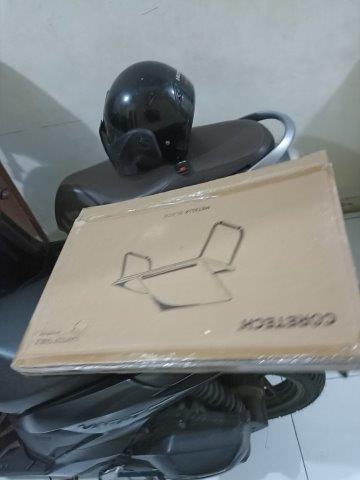kardus: (17, 154, 360, 369)
